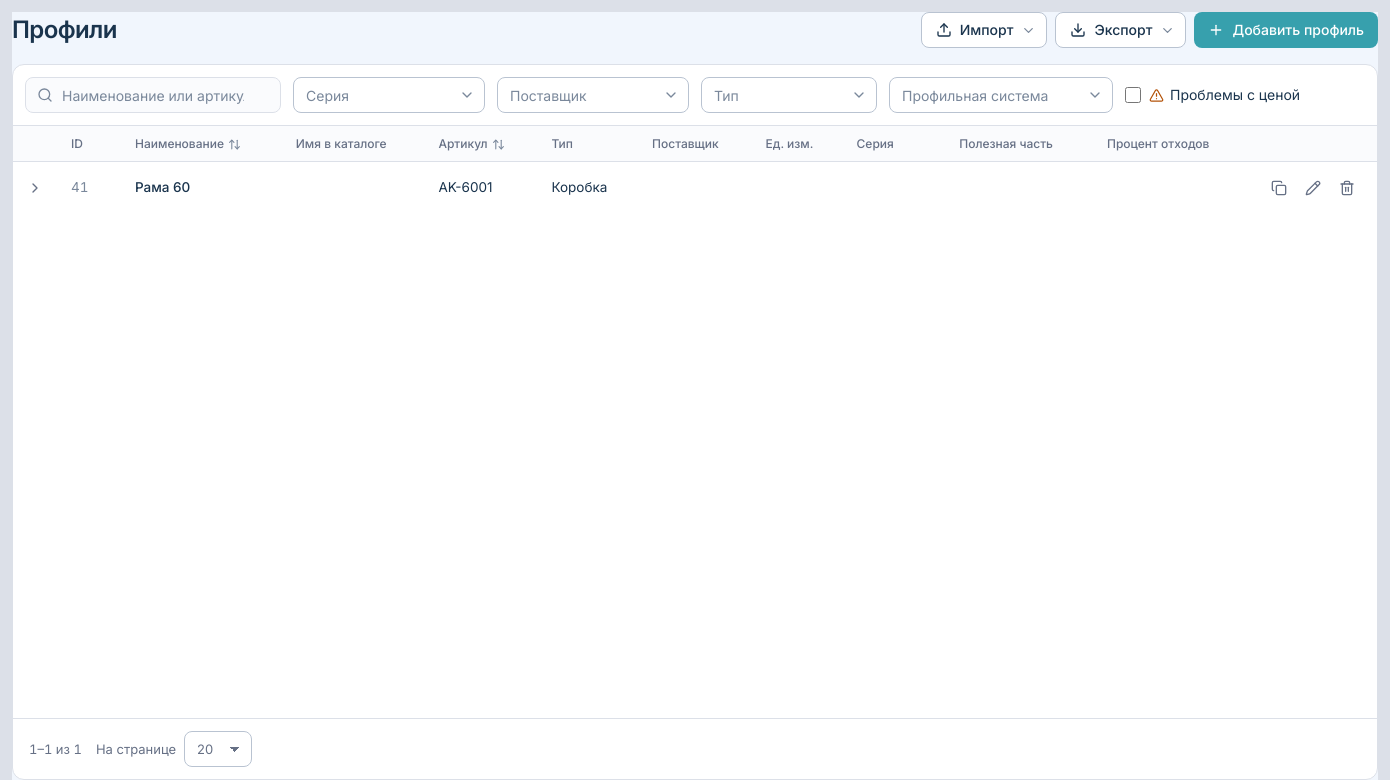
Product prices › opens the prices right under a clicked product, unsorted like the old panel
Click the text "AK-6001": (481, 188) [424,162,537,214]
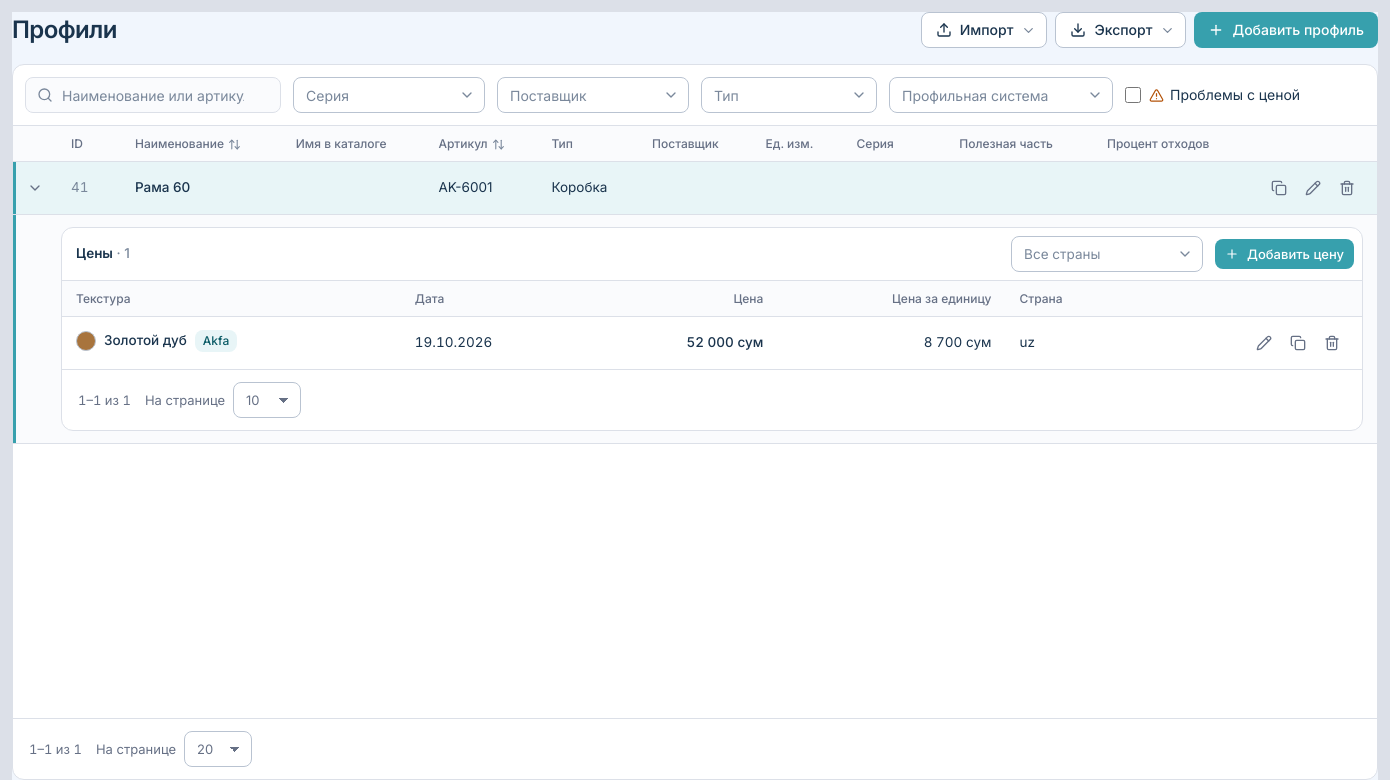
Result: the row named "Цены: Рама 60" is shown at [13,214,1377,444]
Result: the text "Золотой дуб" is shown at [104,331,187,350]
Result: the text "Akfa" is shown at [195,330,237,352]
Click the button named "Скрыть цены: Рама 60": (35, 188) [21,174,49,202]
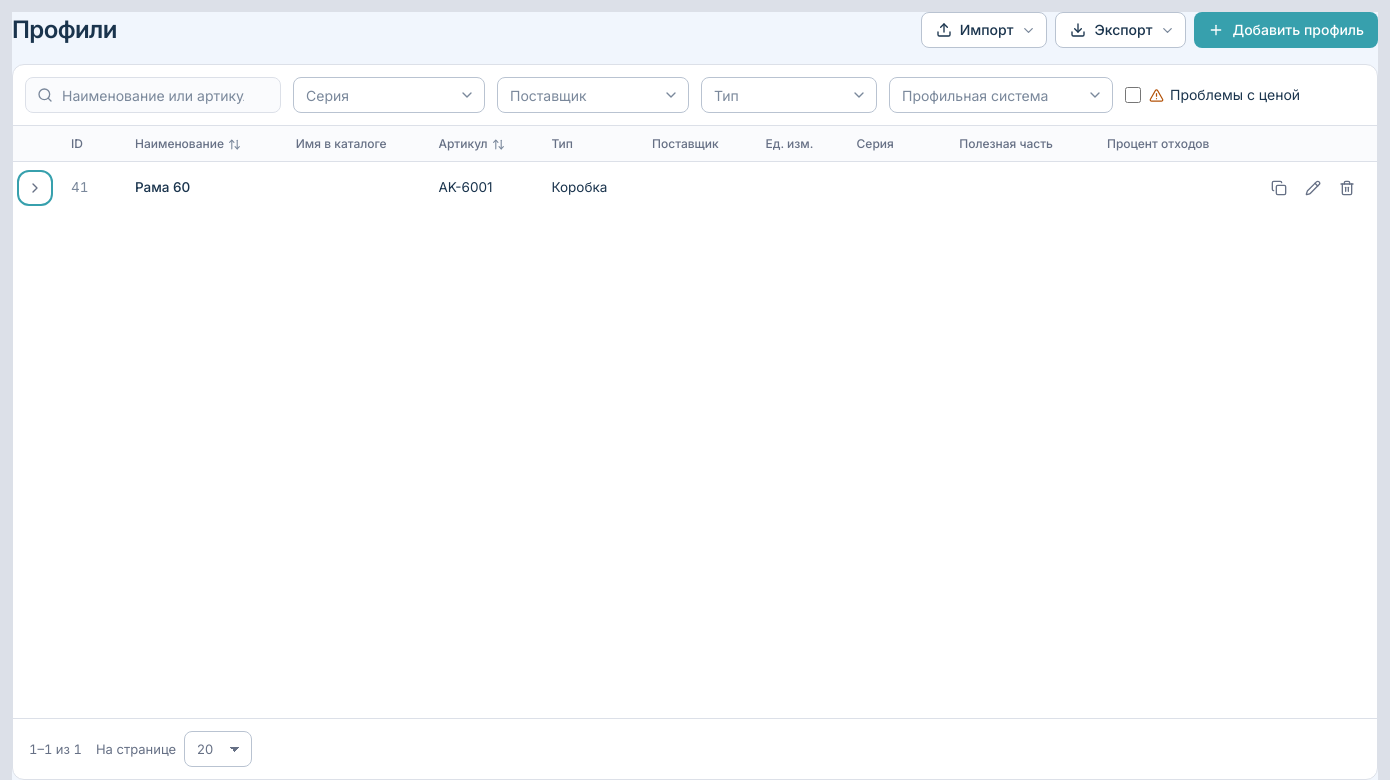
Result: the element "Цены" is gone
